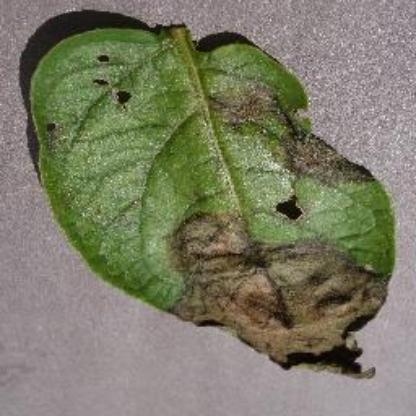Late-Blight: (28, 21, 397, 381)
